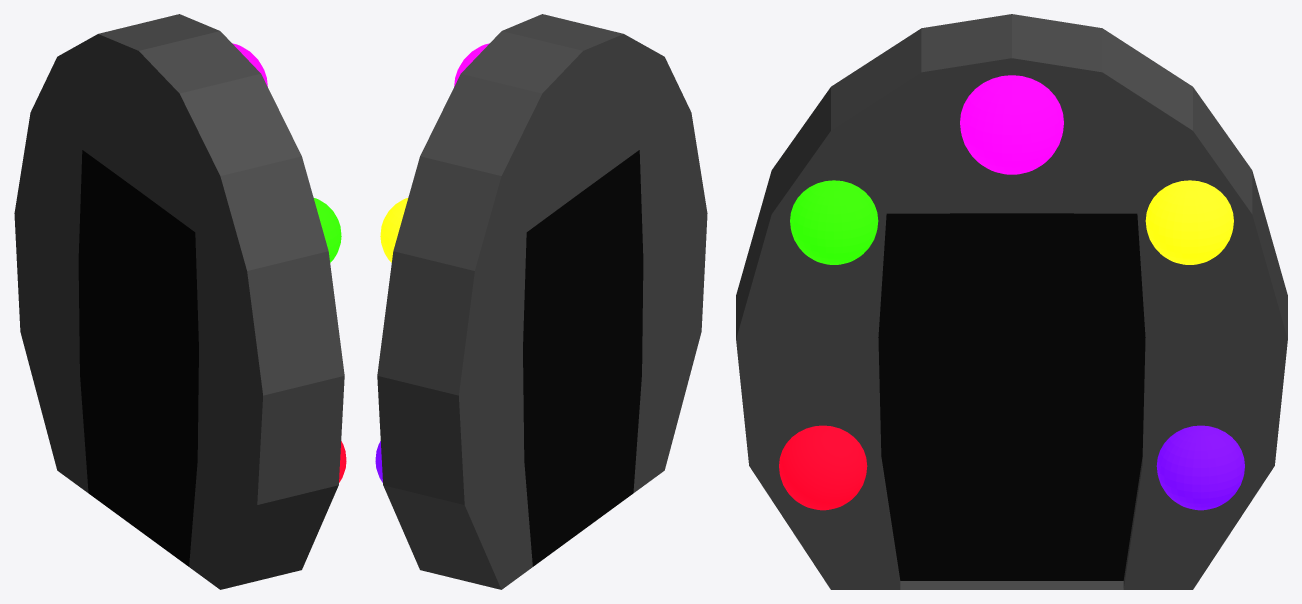
File: 宝石扉5.fbx
The picture shows the model from 3 angles, left to right: view 1: azimuth 30°, elevation 25°; view 2: azimuth 150°, elevation 25°; view 3: azimuth 270°, elevation 25°; orthographic projection. The views are drawn at different scales.
Parts seen in each view (by area): view 1: Cube, Cube.004; view 2: Cube, Cube.001; view 3: Cube, Cube.007, Cube.006, Cube.002, Cube.001, Cube.004, Cube.003, Cube.005.
Boxes of the visible parts, bbox=[...] form: Cube: bbox=[14, 14, 344, 589]; Cube.004: bbox=[314, 198, 341, 262]; Cube: bbox=[377, 14, 707, 589]; Cube.001: bbox=[380, 198, 407, 262]; Cube: bbox=[736, 14, 1287, 589]; Cube.007: bbox=[878, 213, 1014, 580]; Cube.006: bbox=[1013, 213, 1145, 580]; Cube.002: bbox=[960, 75, 1063, 174]; Cube.001: bbox=[1145, 180, 1233, 264]; Cube.004: bbox=[790, 180, 878, 264]; Cube.003: bbox=[779, 425, 867, 510]; Cube.005: bbox=[1156, 425, 1244, 510].
Bounding box in the file's own units: 260 × 969 × 912.
